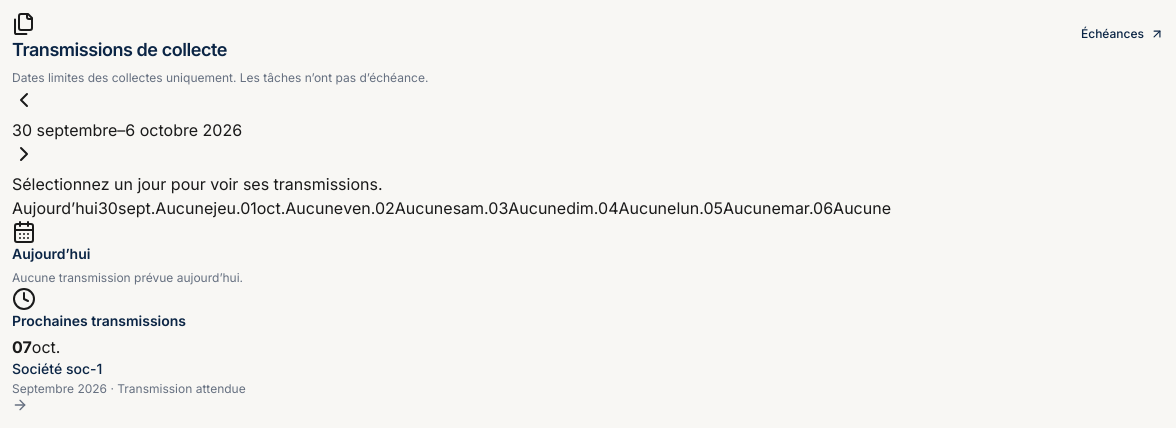
Daily Workspace UI contract › navigates seven-day ranges using loaded collection dates and keeps today reachable
Check: the button named "Sept jours précédents" is disabled, box x1=12 y1=88 x2=36 y2=112
Click the button named "Sept jours suivants" at point(24, 154), box x1=12 y1=142 x2=36 y2=166
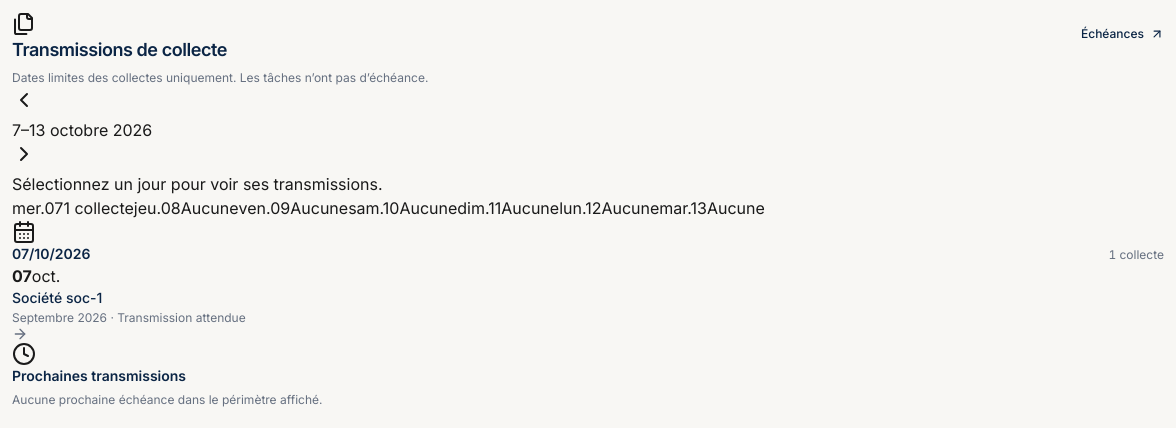
Check: the text "7–13 octobre 2026" is shown, box x1=12 y1=120 x2=152 y2=140
Click the button named "Sept jours précédents" at point(24, 100), box x1=12 y1=88 x2=36 y2=112
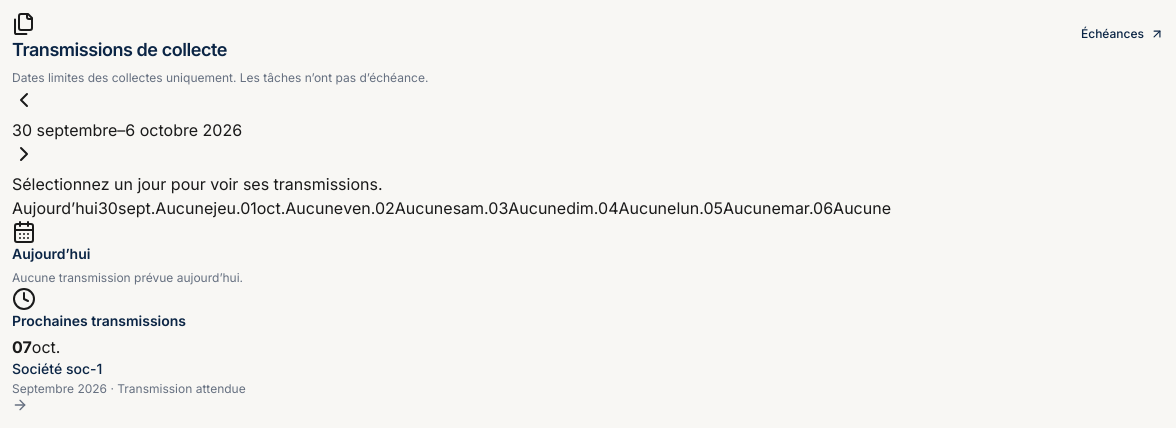
Check: the text "30 septembre–6 octobre 2026" is shown, box x1=12 y1=120 x2=242 y2=140
